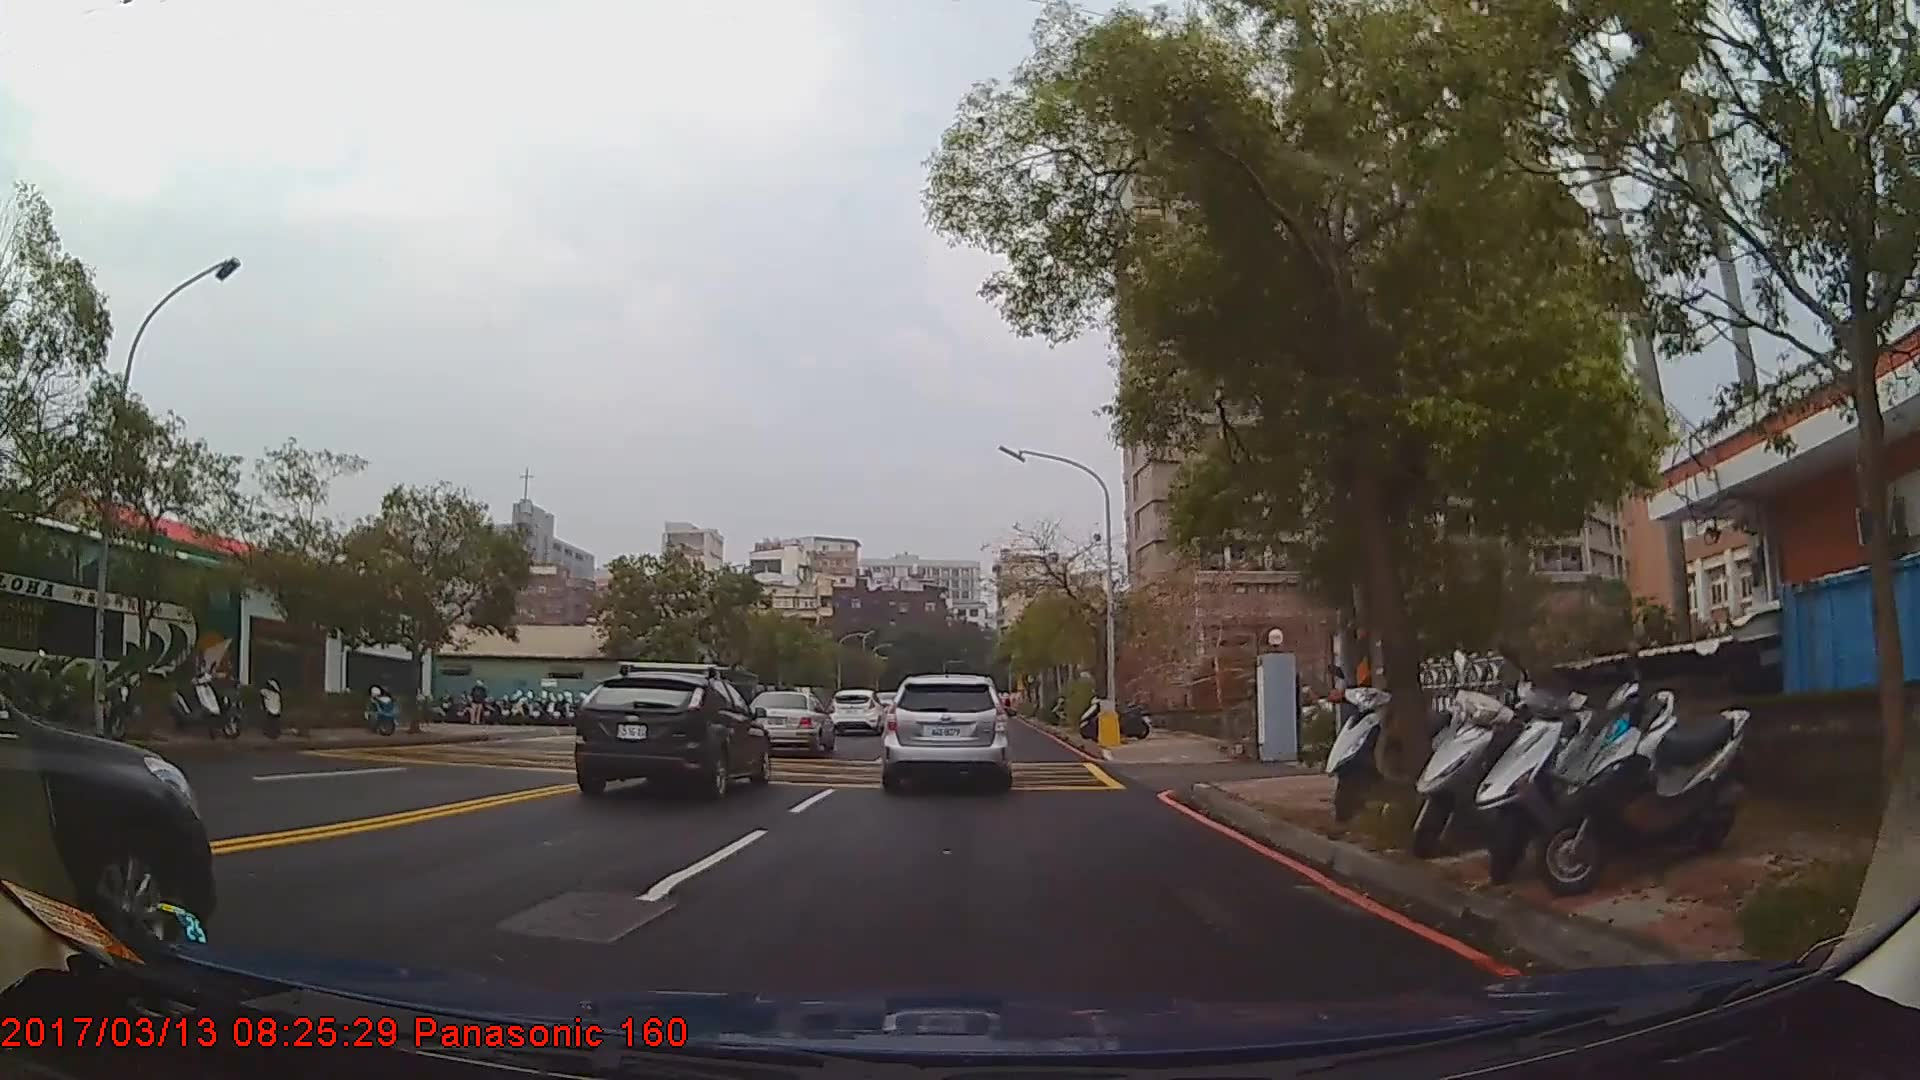pedestrian: (470, 681, 490, 726)
vehicle: (0, 692, 213, 956), (0, 500, 240, 733), (572, 668, 770, 802), (884, 673, 1008, 787), (745, 689, 834, 755), (828, 688, 886, 734)
